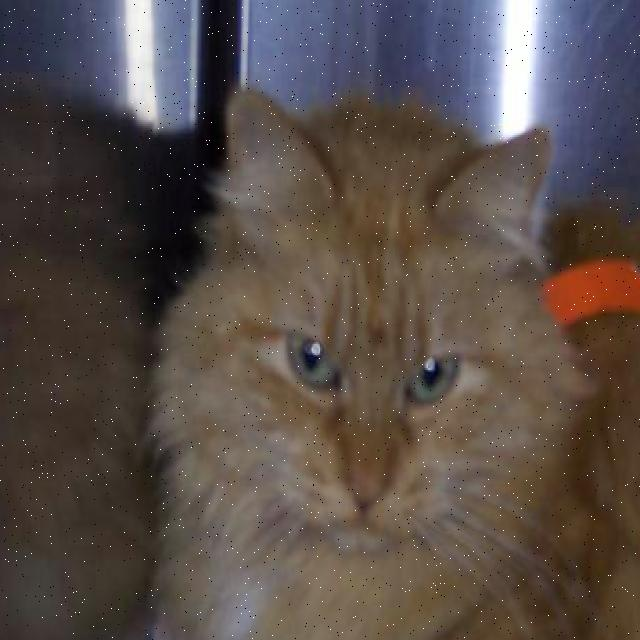Cat: (215, 92, 556, 574)
